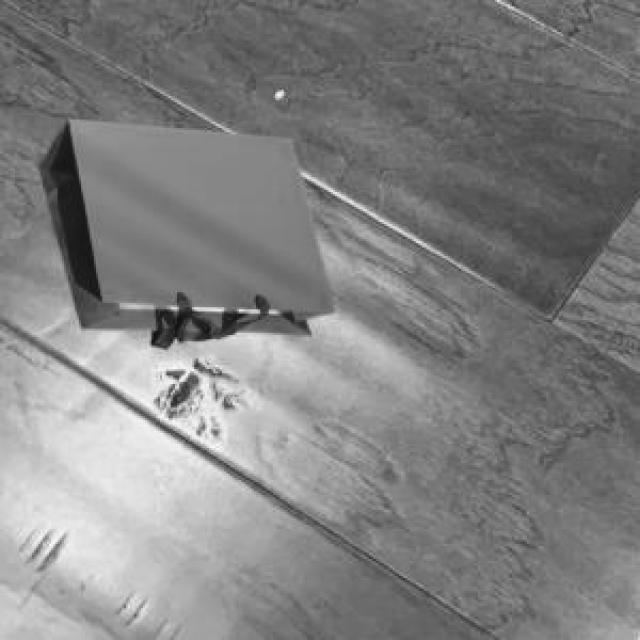paper: (34, 115, 331, 344)
